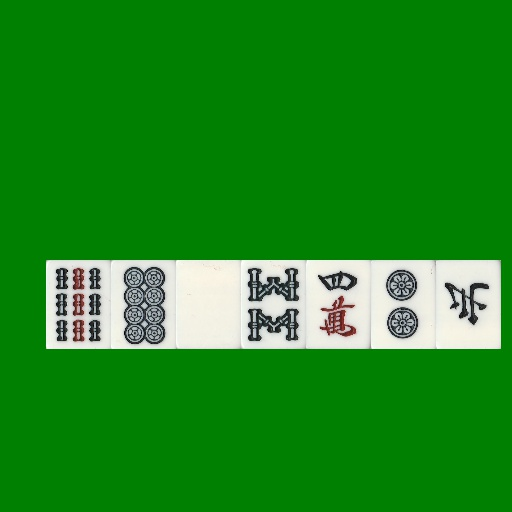2p: (371, 260, 436, 349)
4m: (306, 260, 371, 349)
8p: (111, 260, 176, 349)
8s: (241, 260, 306, 349)
9s: (46, 260, 111, 349)
north: (436, 260, 501, 349)
white: (176, 260, 241, 349)
